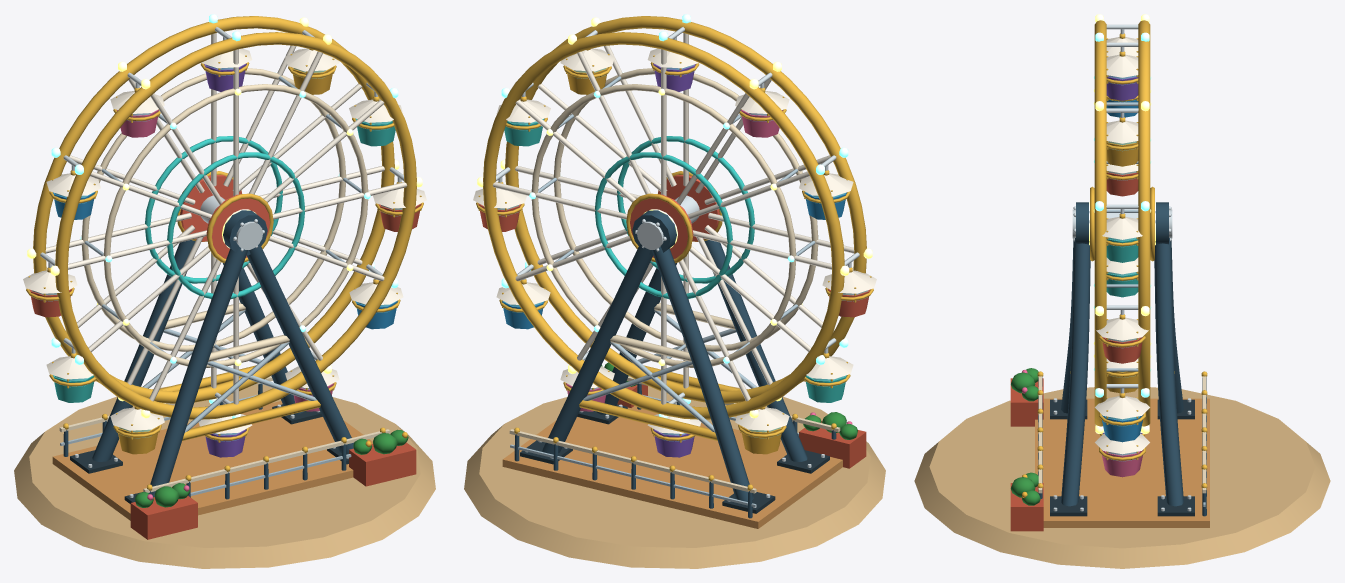
Rendered from ferris-wheel.glb.
3 renders of one model, left to right at view 1: azimuth 30°, elevation 25°; view 2: azimuth 150°, elevation 25°; view 3: azimuth 270°, elevation 25°, orthographic.
Visible parts, largest first — view 1: Mesh_sandStone, Mesh_gold (×2), Mesh_warmWhite (×11), Mesh_steel, Mesh_lightWood, Mesh_cream (×2), Mesh_turquoise (×3), Mesh_terracotta, Mesh_steelLight (×2), Mesh_coral (×2), Mesh_chrome (×2), Mesh_leaf (+7 smaller); view 2: Mesh_sandStone, Mesh_gold (×2), Mesh_warmWhite (×11), Mesh_lightWood, Mesh_steel, Mesh_cream (×2), Mesh_turquoise (×3), Mesh_steelLight (×2), Mesh_coral (×2), Mesh_iron, Mesh_chrome (×2), Mesh_terracotta (+7 smaller); view 3: Mesh_sandStone, Mesh_lightWood, Mesh_steel, Mesh_gold, Mesh_warmWhite (×6), Mesh_terracotta, Mesh_iron, Mesh_chrome (×2), Mesh_coral (×2), Mesh_leaf, Mesh_turquoise (×2), Mesh_cream (+7 smaller).
Boxes of the visible parts, <box> form: Mesh_sandStone: <box>14,384,435,568</box>; Mesh_gold (×2): <box>33,16,416,490</box>; Mesh_warmWhite (×11): <box>23,33,426,430</box>; Mesh_steel: <box>63,210,353,499</box>; Mesh_lightWood: <box>52,401,372,520</box>; Mesh_cream (×2): <box>59,68,390,492</box>; Mesh_turquoise (×3): <box>53,118,395,402</box>; Mesh_terracotta: <box>130,442,416,539</box>; Mesh_steelLight (×2): <box>60,76,361,495</box>; Mesh_coral (×2): <box>29,174,269,317</box>; Mesh_chrome (×2): <box>40,27,404,497</box>; Mesh_leaf: <box>135,429,408,507</box>; Mesh_sandStone: <box>464,386,885,568</box>; Mesh_gold (×2): <box>483,16,866,490</box>; Mesh_warmWhite (×11): <box>473,33,876,430</box>; Mesh_lightWood: <box>502,406,842,528</box>; Mesh_steel: <box>514,210,836,518</box>; Mesh_cream (×2): <box>509,68,840,493</box>; Mesh_turquoise (×3): <box>504,118,846,402</box>; Mesh_steelLight (×2): <box>510,76,815,507</box>; Mesh_coral (×2): <box>630,174,870,317</box>; Mesh_iron: <box>520,404,829,513</box>; Mesh_chrome (×2): <box>495,27,859,507</box>; Mesh_terracotta: <box>617,384,866,468</box>; Mesh_sandStone: <box>914,387,1330,568</box>; Mesh_lightWood: <box>1035,398,1209,527</box>; Mesh_steel: <box>1038,202,1206,516</box>; Mesh_gold: <box>1090,20,1154,426</box>; Mesh_warmWhite (×6): <box>1095,54,1149,454</box>; Mesh_terracotta: <box>1010,378,1043,531</box>; Mesh_iron: <box>1050,399,1194,516</box>; Mesh_chrome (×2): <box>1053,24,1191,511</box>; Mesh_coral (×2): <box>1102,171,1142,363</box>; Mesh_leaf: <box>1010,368,1040,505</box>; Mesh_turquoise (×2): <box>1106,238,1138,297</box>; Mesh_cream: <box>1038,376,1206,493</box>.
Bounding box in the file's own units: 7.48 × 8.2 × 6.9.
